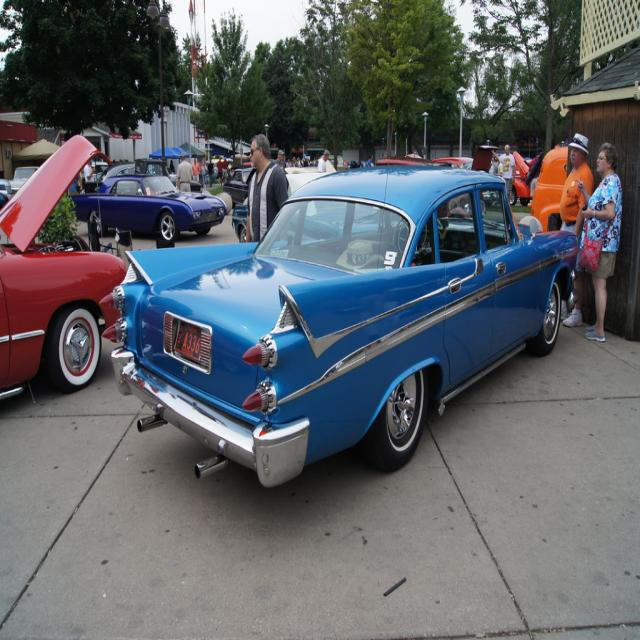car: (94, 108, 578, 492)
